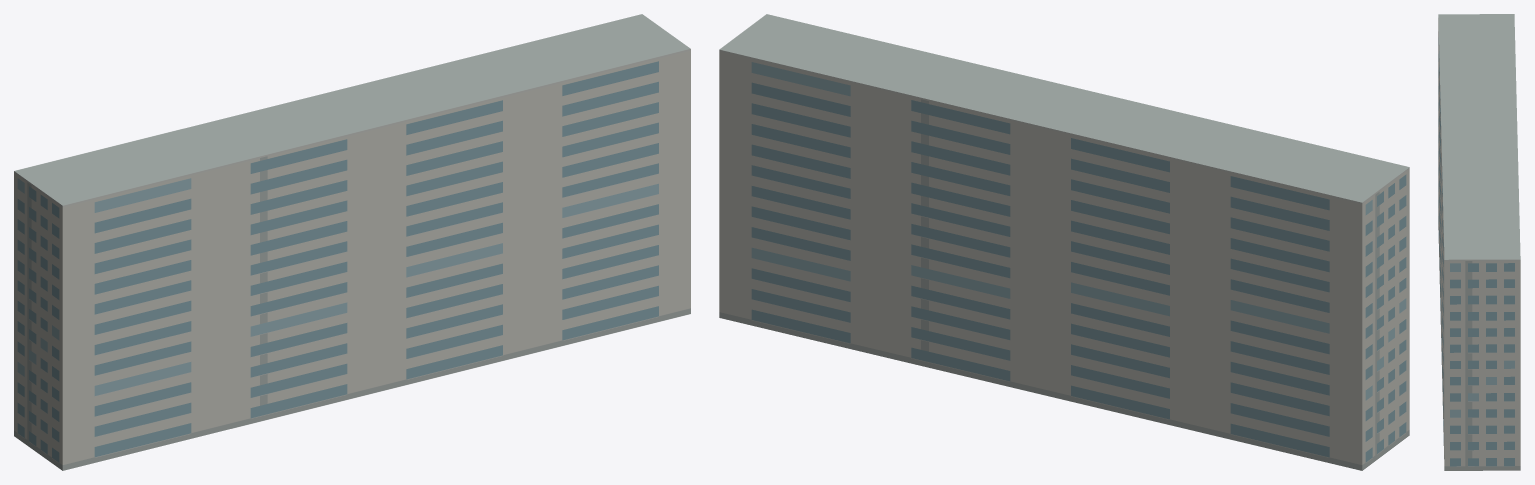
The model's file is residential-ab229d57-5103-4aef-9d5a-0ae40f16387d.glb.
3 renders of one model, left to right at view 1: azimuth 30°, elevation 25°; view 2: azimuth 150°, elevation 25°; view 3: azimuth 270°, elevation 25°, orthographic. The views are drawn at different scales.
Parts seen in each view (by area): view 1: residential-ab229d57-5103-4aef-9d5a-0ae40f16387d.tmp; view 2: residential-ab229d57-5103-4aef-9d5a-0ae40f16387d.tmp; view 3: residential-ab229d57-5103-4aef-9d5a-0ae40f16387d.tmp.
Part boxes in pixels (x1,y1,x2,y2): residential-ab229d57-5103-4aef-9d5a-0ae40f16387d.tmp: [14, 14, 690, 470]; residential-ab229d57-5103-4aef-9d5a-0ae40f16387d.tmp: [719, 14, 1409, 470]; residential-ab229d57-5103-4aef-9d5a-0ae40f16387d.tmp: [1438, 14, 1520, 470].
Size of the model in its own units: 99.03 by 39.65 by 14.
